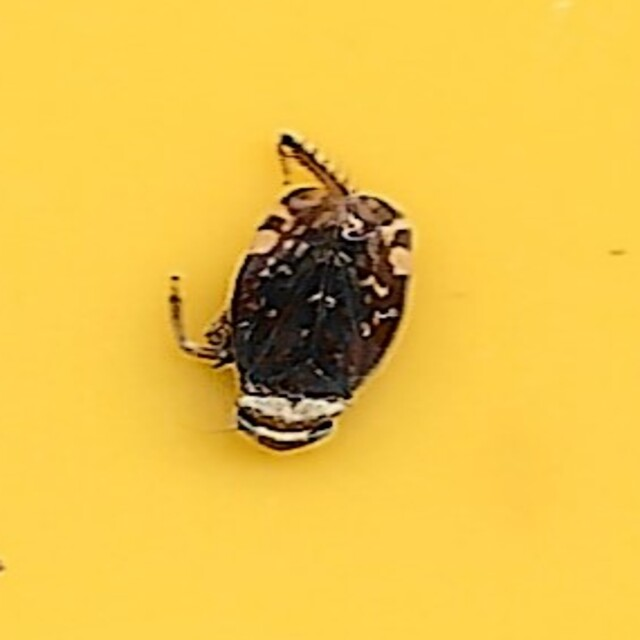Hemiptera: (225, 181, 415, 459)
